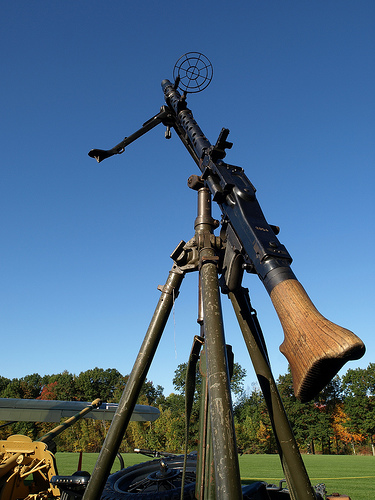rifle: (69, 36, 344, 409)
